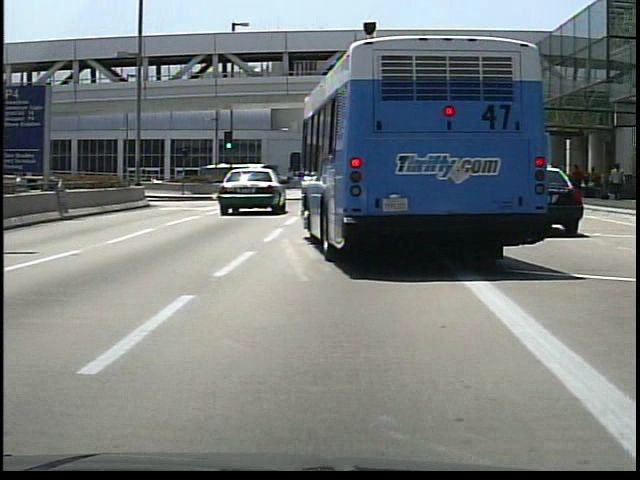person: (608, 165, 626, 201), (570, 163, 584, 197), (588, 166, 600, 202), (283, 173, 294, 192)
